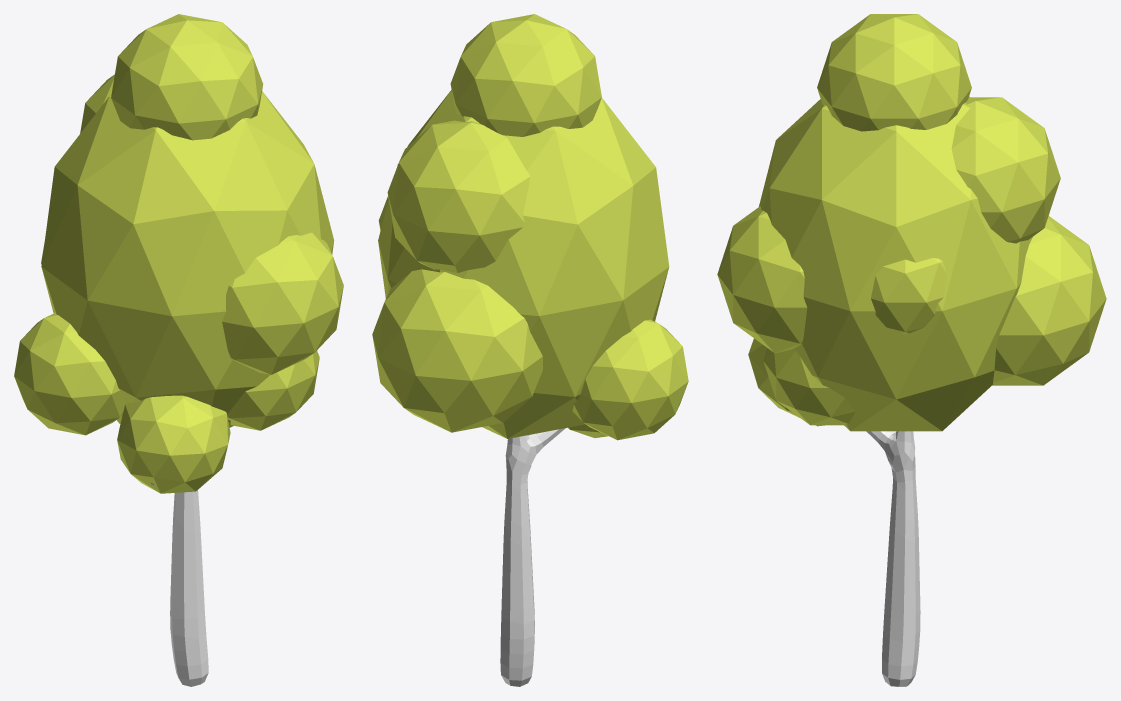
The model's file is birch-tree.glb.
3 views of the same model, side by side, from view 1: azimuth 30°, elevation 25°; view 2: azimuth 150°, elevation 25°; view 3: azimuth 270°, elevation 25° (orthographic).
Parts seen in each view (by area): view 1: Vert.002, Icosphere.006; view 2: Vert.002, Icosphere.006; view 3: Vert.002.
Part boxes in pixels (<box>): Vert.002: <box>41,14,343,686</box>; Icosphere.006: <box>14,313,126,435</box>; Vert.002: <box>372,14,669,686</box>; Icosphere.006: <box>572,319,688,440</box>; Vert.002: <box>717,14,1106,686</box>.
Size of the model in its own units: 7.57 by 16.64 by 8.83.
